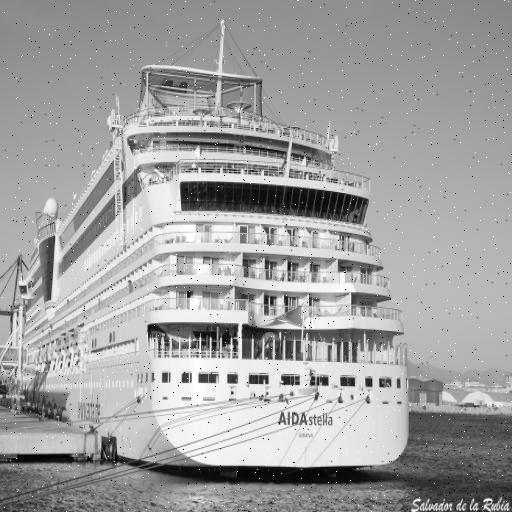cruises: (14, 13, 414, 491)
